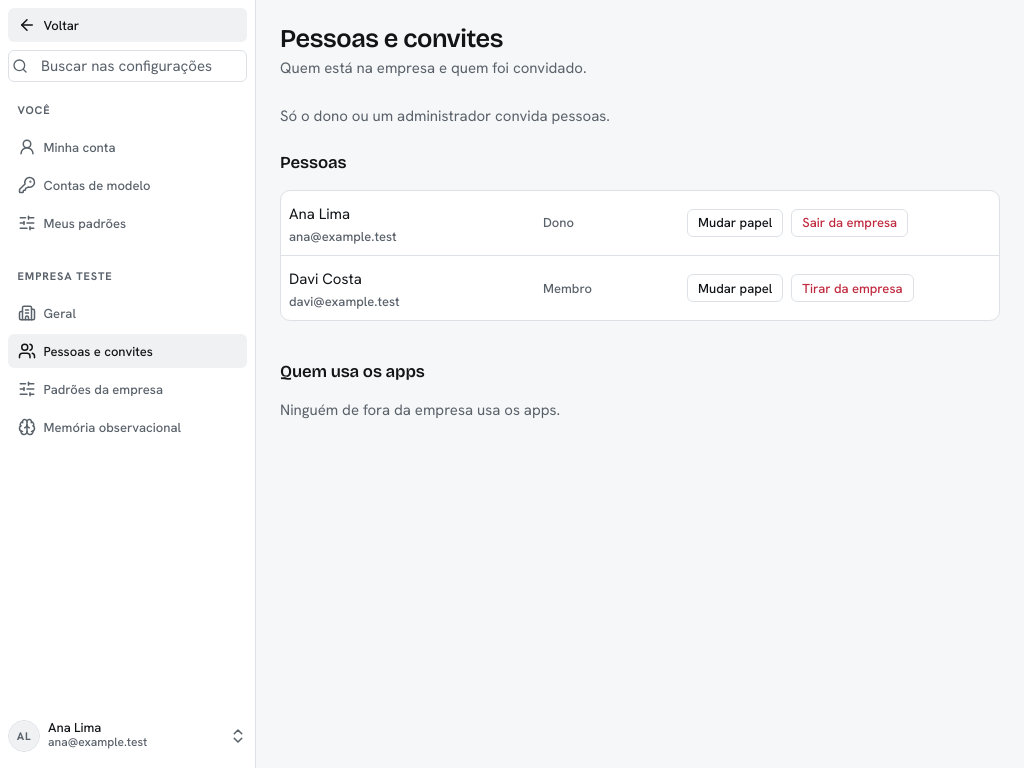
mudar papel: a lista traz o atual e os que o Hub oferece, e o PUT leva o papel lido
Click the button with aria-label "Mudar papel: Davi Costa" at [735, 288], box [687,274,783,302]
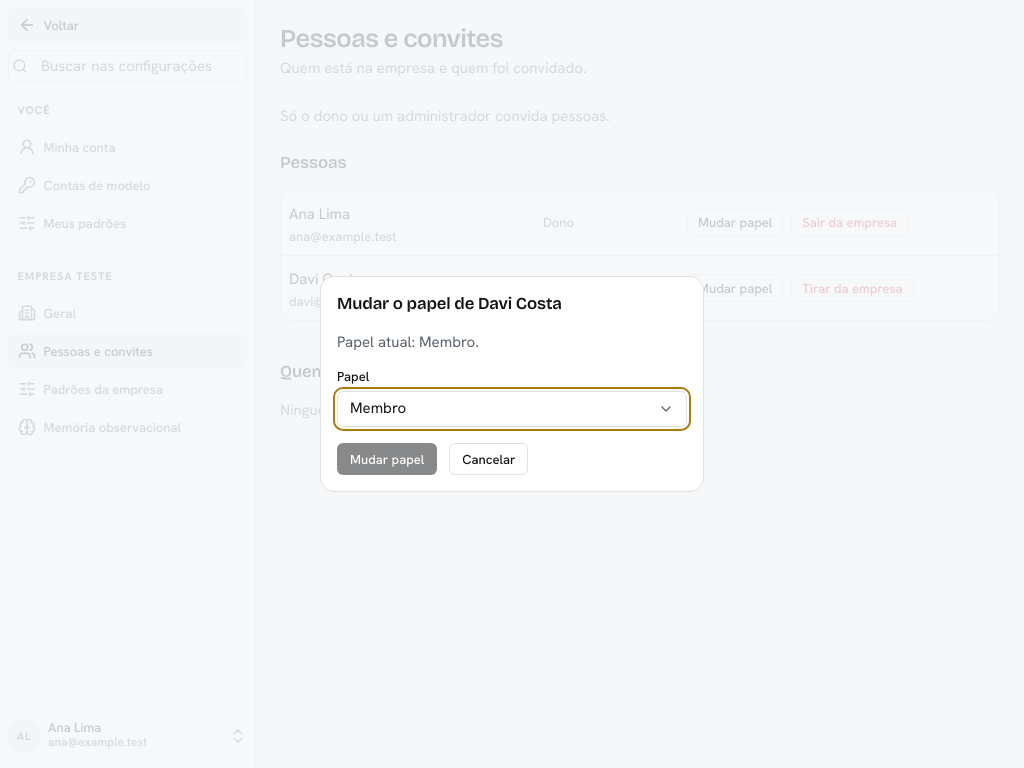
Expected: the dialog shows "Papel atual: Membro.", [337,332,479,352]
Expected: the button "Mudar papel" is disabled, [337,443,437,475]
Click the dropdown named "Papel" at [378, 408], box [337,391,687,427]
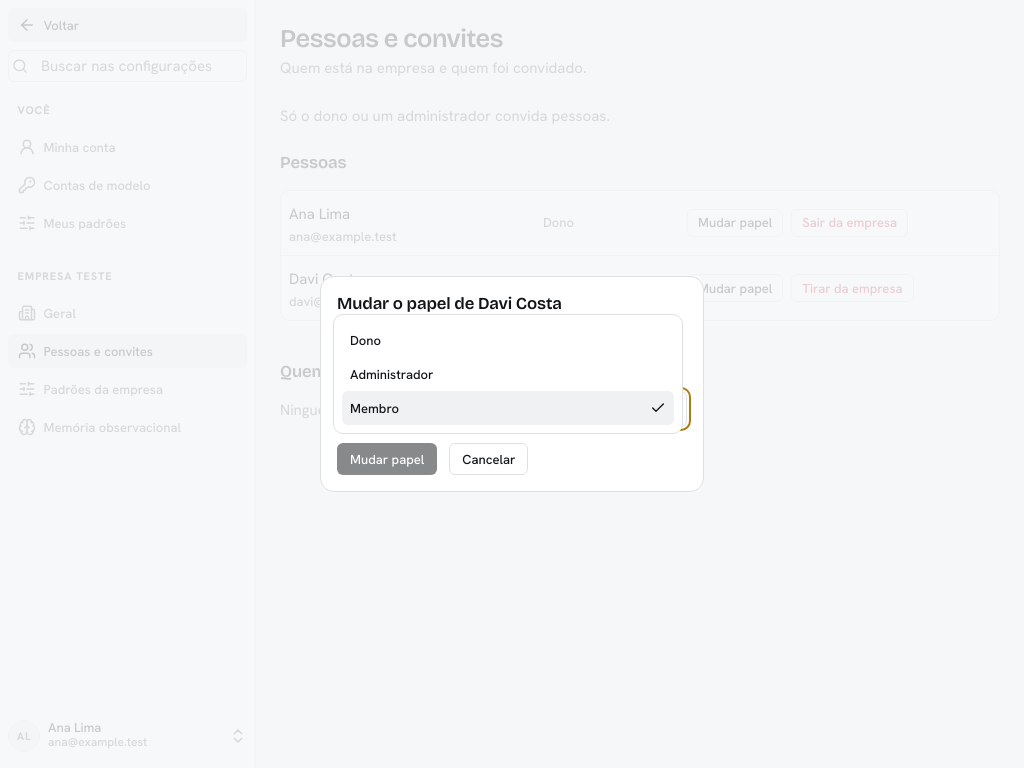
Press the mouse on the option "Administrador" at [392, 374], box [350,366,434,382]
Click the option "Administrador" at [392, 374], box [350,366,434,382]
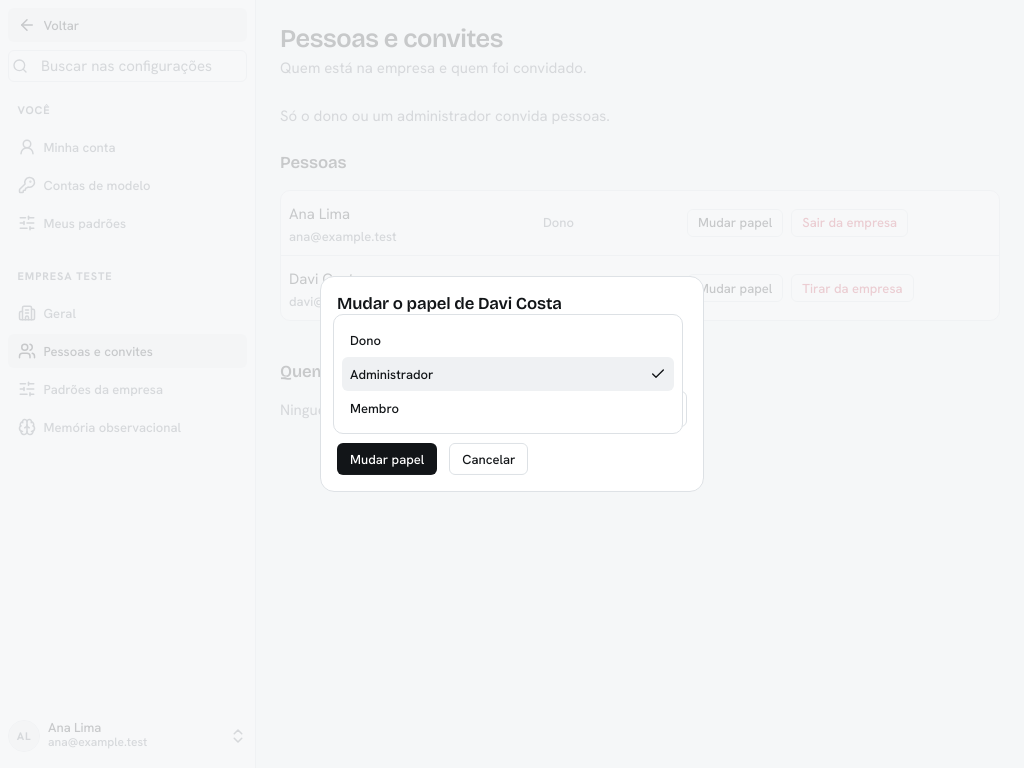
Click the button "Mudar papel" at [387, 459], box [337,443,437,475]
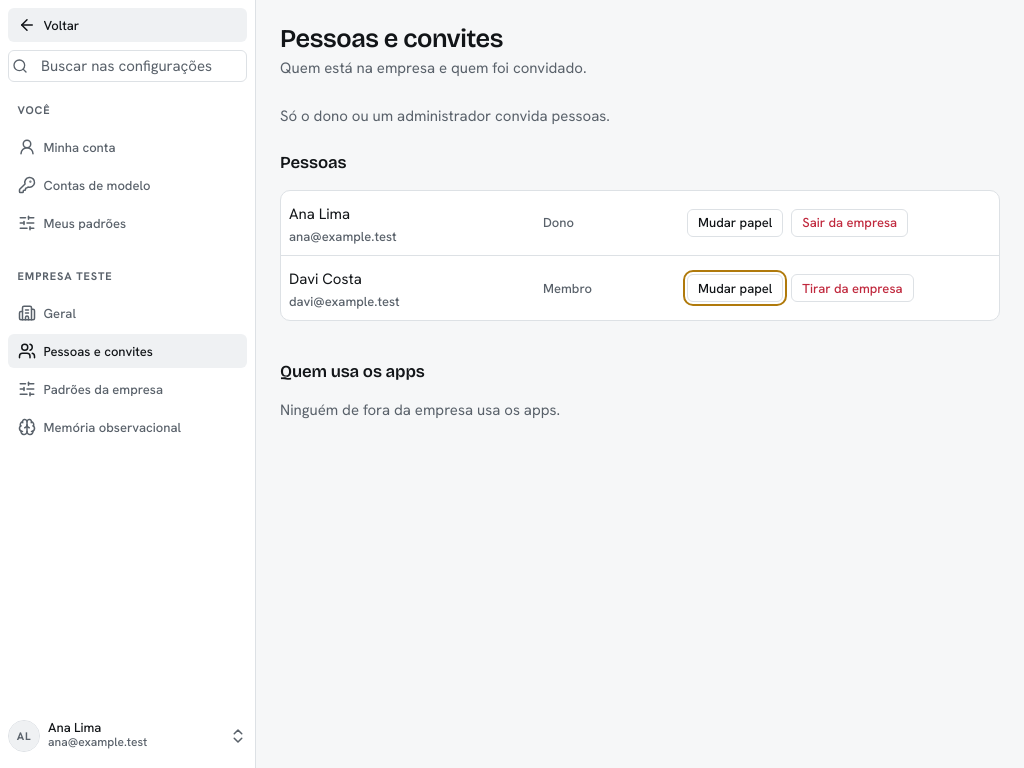
Expected: the dialog is gone
